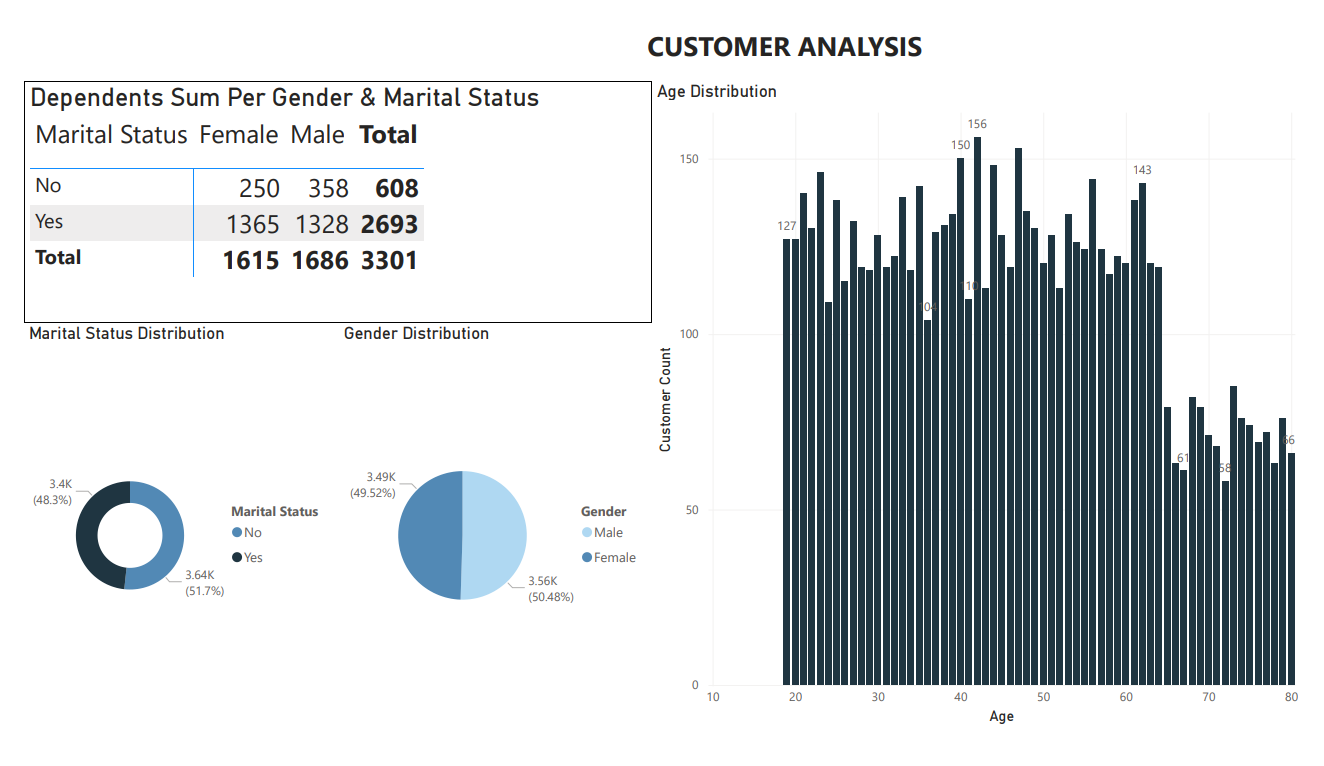

The page's visual inventory and layout, read from the dashboard file:
{"tool":"powerbi","page":{"name":"Customer Analysis","canvas":[1280,720],"ordinal":1},"visuals":[{"type":"pieChart","title":"Gender Distribution","fields":{"Category":["Customer Details.Gender"],"Y":["CountNonNull(Customer Details.Gender)"]},"box":[315,300.8,313.2,405.8],"z":0},{"type":"donutChart","title":"Marital Status Distribution","fields":{"Category":["Customer Details.Marital Status"],"Y":["CountNonNull(Customer Details.Marital Status)"]},"box":[0,300.8,315,405.8],"z":1000},{"type":"pivotTable","title":"Dependents Sum Per Gender & Marital Status","fields":{"Rows":["Customer Details.Marital Status"],"Columns":["Customer Details.Gender"],"Values":["Sum(Customer Details.Number of Dependents)"]},"box":[0,58.7,628.3,242.1],"z":2000},{"type":"clusteredColumnChart","title":"Age Distribution","fields":{"Category":["Customer Details.Age"],"Y":["CountNonNull(Customer Details.Customer ID)"]},"box":[628.3,58.7,651.4,647.8],"z":3000},{"type":"textbox","box":[471.6,0,578.4,58.7],"z":4000}]}

Visuals, with their boxes in screenshot pixels (x1, y1, x2, y2), scaled from the page's 1280x720 canvas onto the 1324x766 screenshot:
"Gender Distribution" pieChart: region(326, 320, 650, 752)
"Marital Status Distribution" donutChart: region(0, 320, 326, 752)
"Dependents Sum Per Gender & Marital Status" pivotTable: region(0, 62, 650, 320)
"Age Distribution" clusteredColumnChart: region(650, 62, 1323, 752)
textbox: region(488, 0, 1086, 62)
